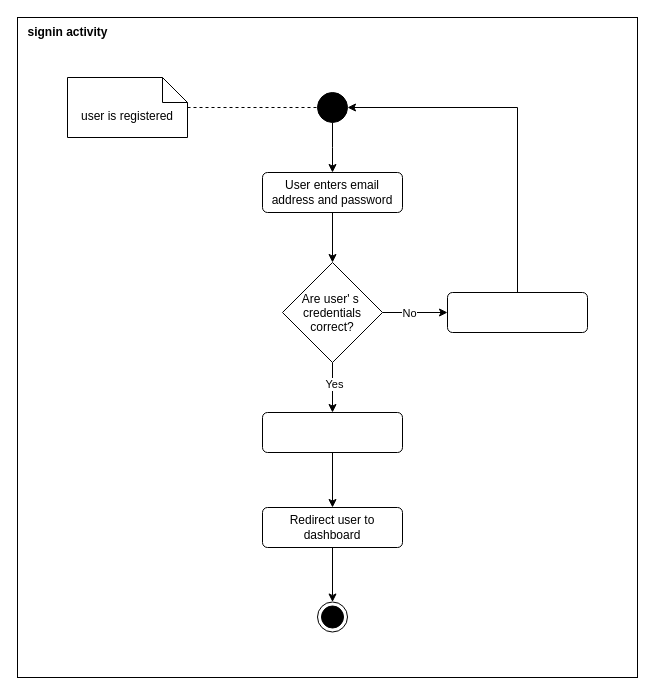
Image size: 655x695. Some labels were removed from this diagram. The centre of each missing label's shape, as x and y in pixels:
Show error message: the point at 517,312
Signin user: the point at 332,432
